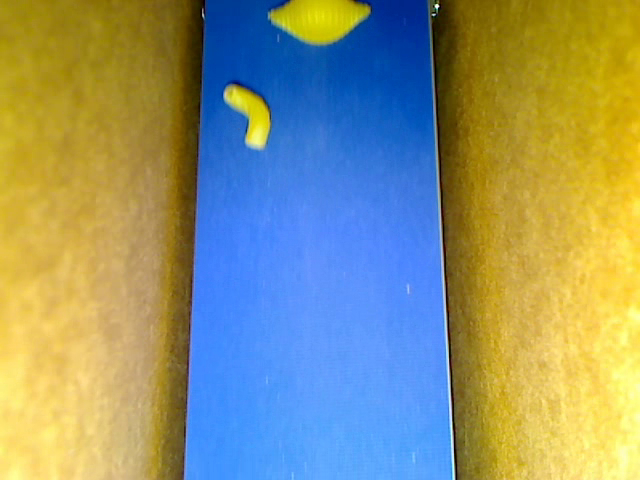elbow: (222, 83, 272, 149)
shell: (267, 1, 371, 47)
